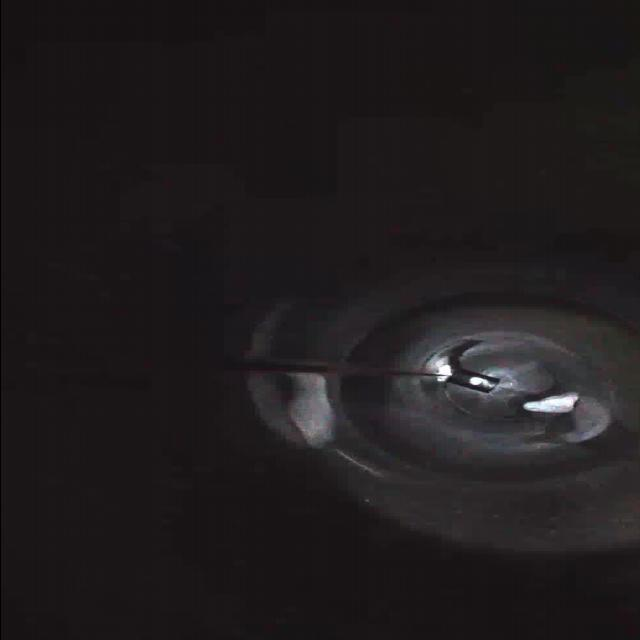impurity: (515, 383, 583, 417)
